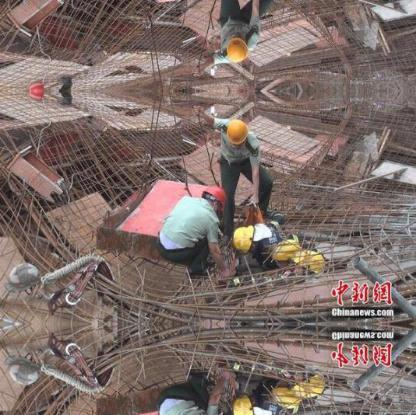helmet: (205, 182, 234, 215), (221, 118, 255, 146), (233, 224, 258, 261)
